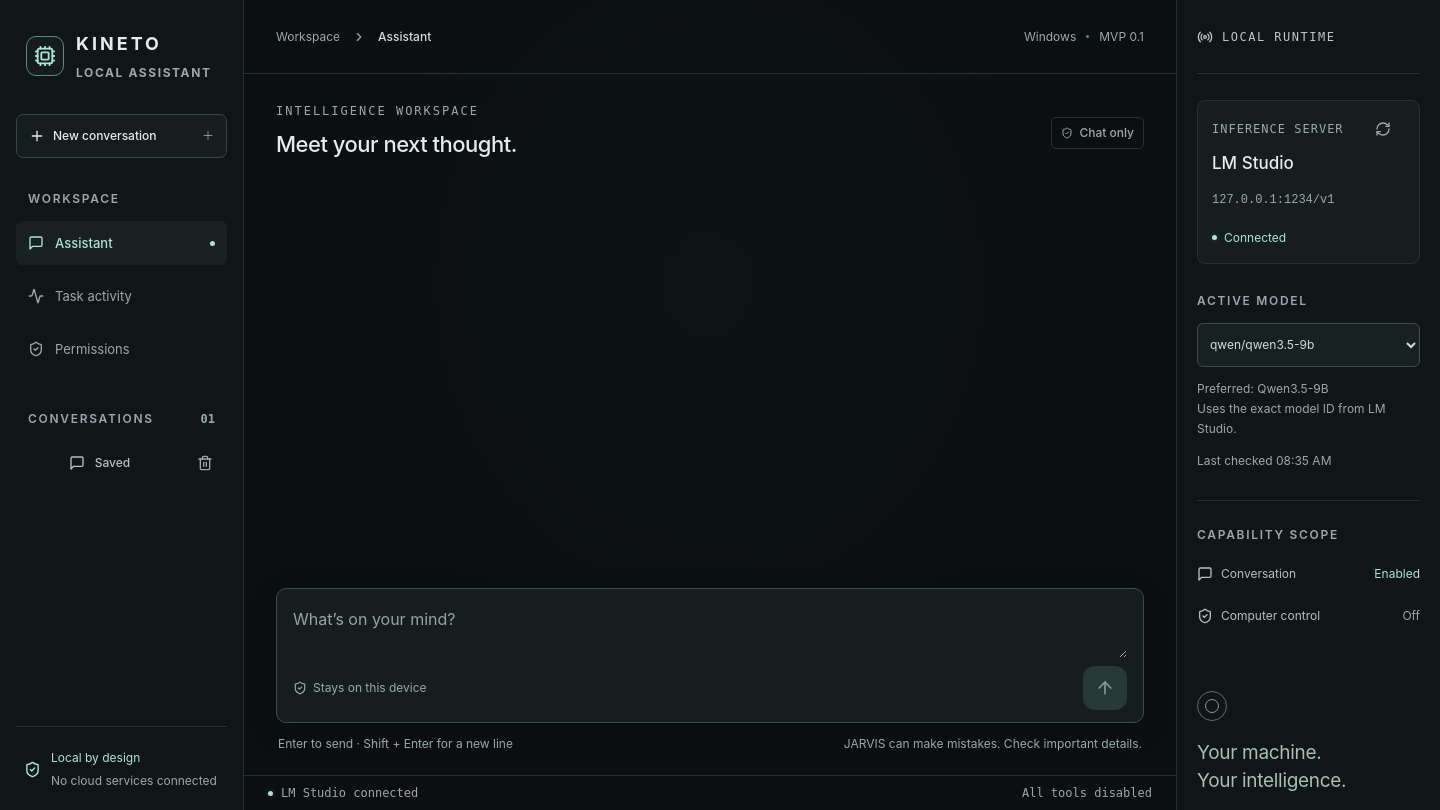
Test: assistant workflow › opens a focused confirmation dialog before deleting a conversation
The image size is (1440, 810).
(page scrolled)
Click the button named "Delete Saved": (205, 463) [183,441,227,485]
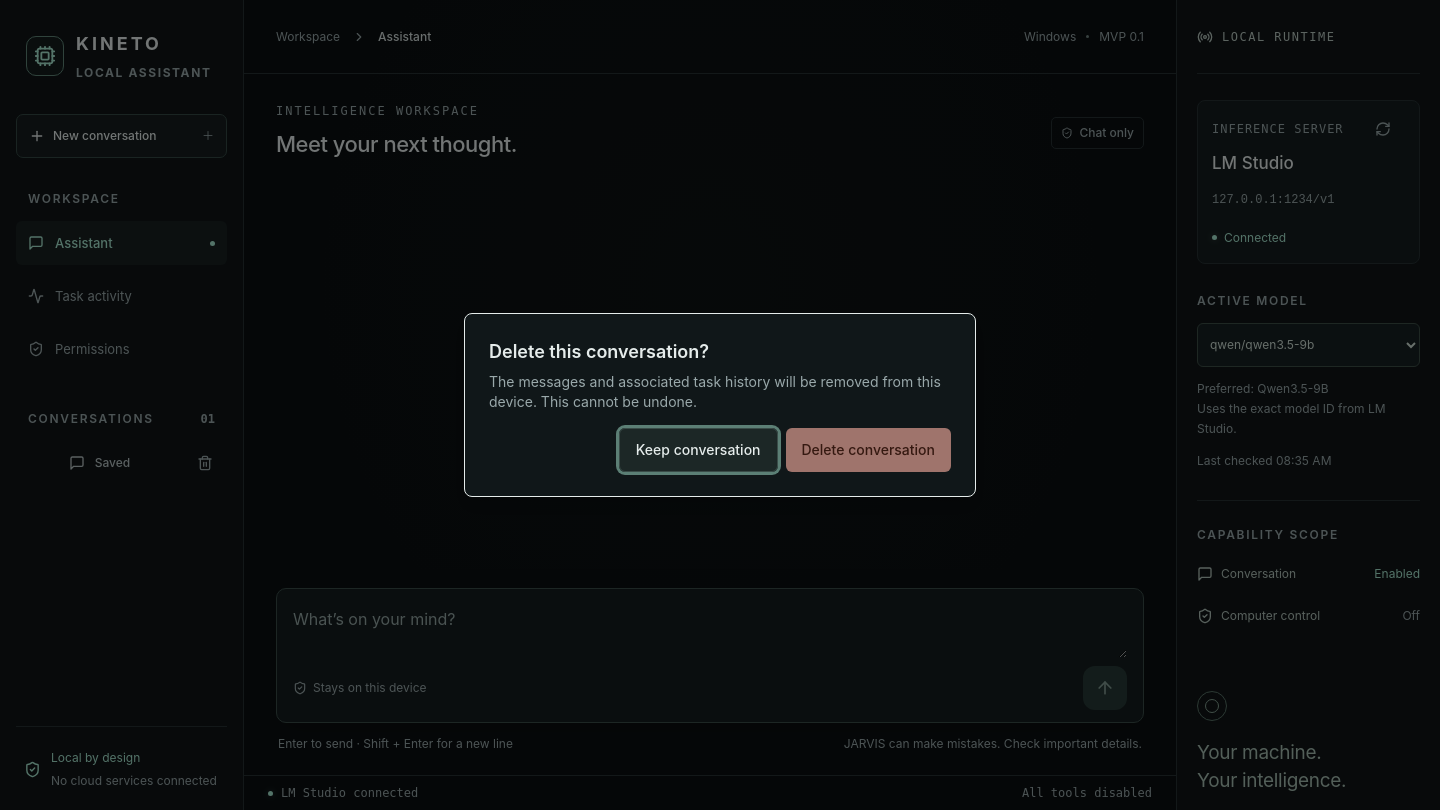
Expected: the dialog is shown, [464,313,976,497]
Click the button "Keep conversation": (698, 450) [619,428,778,472]
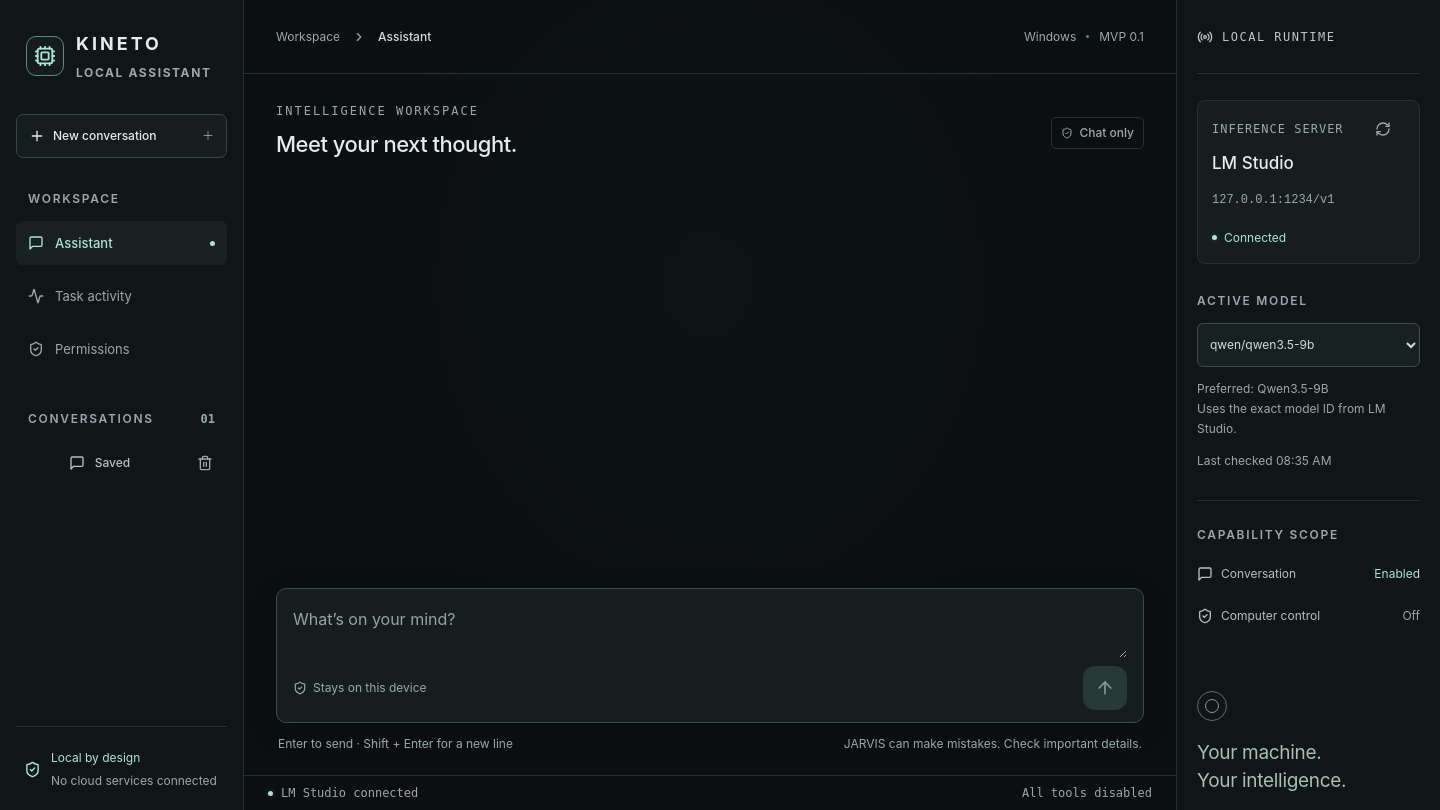
Expected: the dialog is gone
